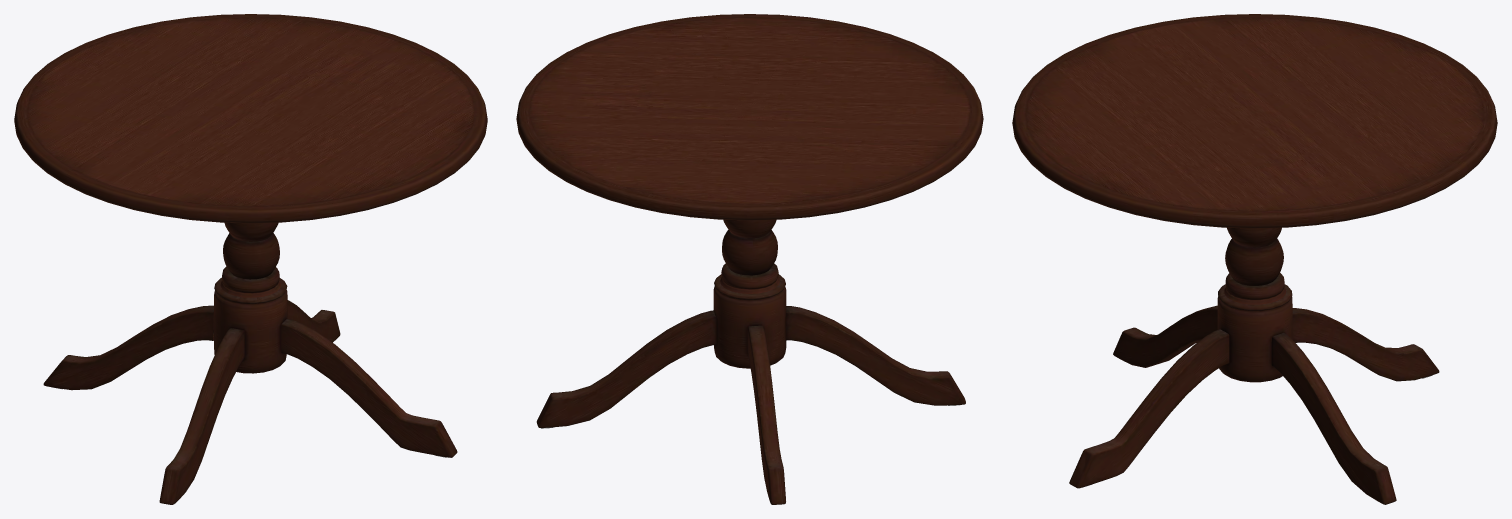
The model's file is ph-round_wooden_table_01.glb.
The picture shows the model from 3 angles, left to right: view 1: azimuth 30°, elevation 25°; view 2: azimuth 150°, elevation 25°; view 3: azimuth 270°, elevation 25°; orthographic projection. The views are drawn at different scales.
Parts seen in each view (by area): view 1: round_wooden_table_01; view 2: round_wooden_table_01; view 3: round_wooden_table_01.
Part boxes in pixels (box(x1,y1,x2,y2)): round_wooden_table_01: box(14, 14, 487, 504); round_wooden_table_01: box(516, 14, 983, 504); round_wooden_table_01: box(1012, 14, 1497, 504).
Bounding box in the file's own units: 1 × 0.7182 × 1.
1 material, 1 textured.
